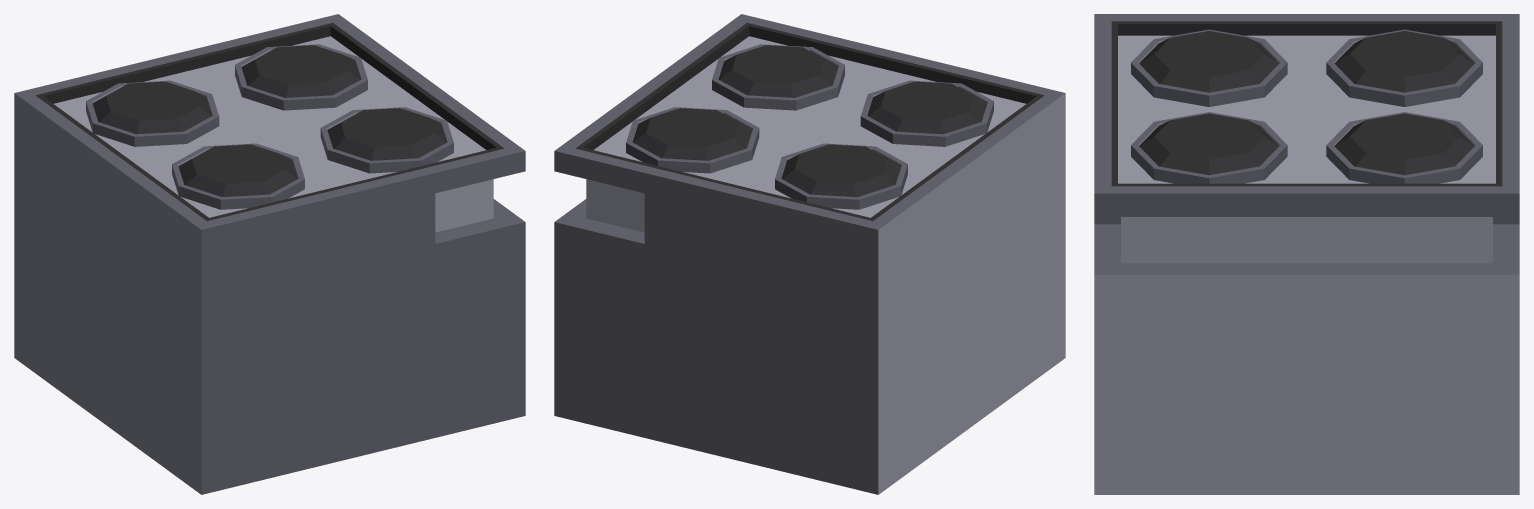
File: Stove.fbx
3 views of the same model, side by side, from view 1: azimuth 30°, elevation 25°; view 2: azimuth 150°, elevation 25°; view 3: azimuth 270°, elevation 25° (orthographic). The views are drawn at different scales.
Parts seen in each view (by area): view 1: Stove; view 2: Stove; view 3: Stove.
Boxes of the visible parts, x1,y1,x2,y2 form: Stove: (14,14,525,494); Stove: (554,14,1065,494); Stove: (1094,14,1519,494).
Bounding box in the file's own units: 72 × 57.85 × 72.
